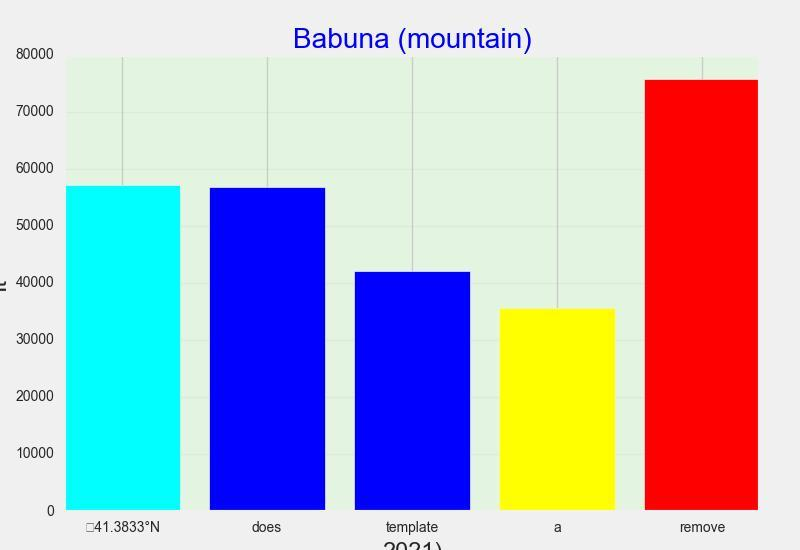axis: (0, 49, 54, 518)
rectangle: (644, 79, 760, 511), (64, 184, 180, 511), (209, 186, 325, 511), (354, 272, 470, 511), (499, 308, 615, 512)
